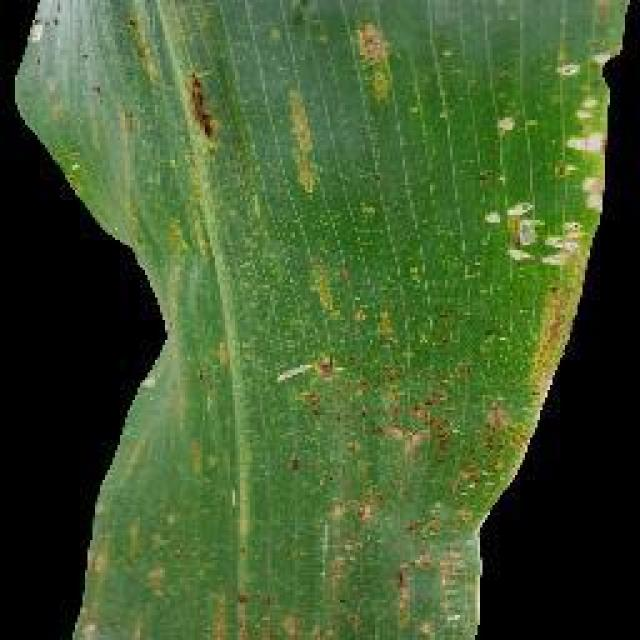Corn Common Rust: (228, 0, 588, 593)
